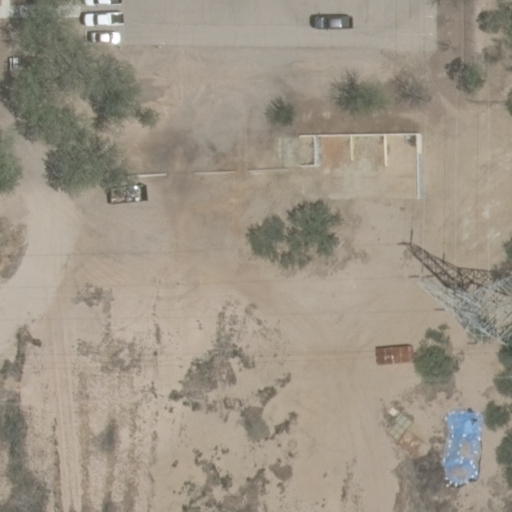TT: (428, 262, 512, 345)
